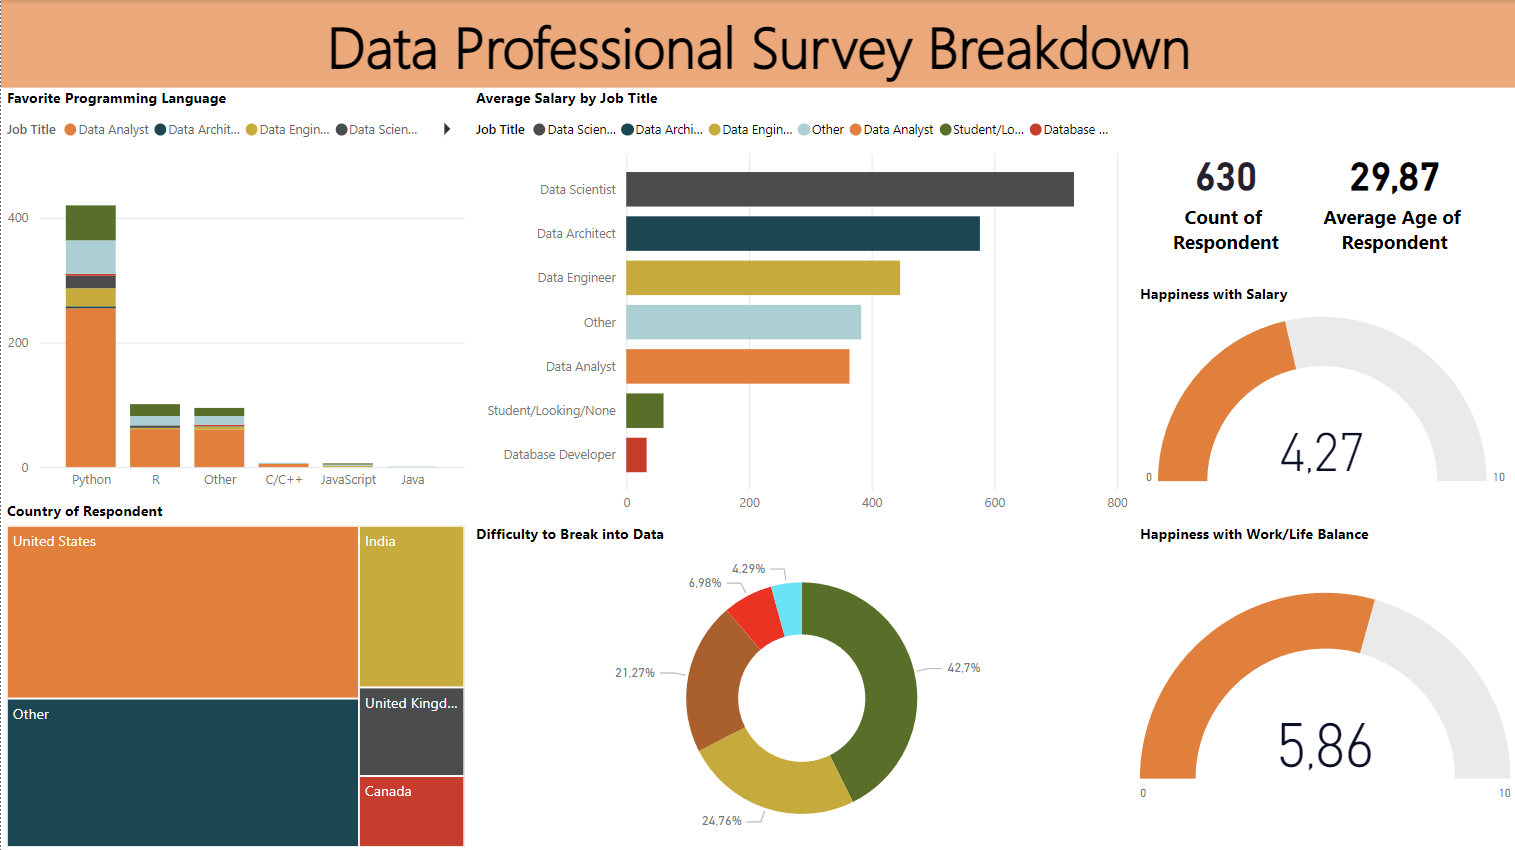

The dashboard page shown, as its layout file describes it:
{"tool":"powerbi","page":{"name":"Page 1","canvas":[1280,720],"ordinal":0},"visuals":[{"type":"textbox","box":[0,0,1280,73.9],"z":0},{"type":"card","fields":{"Values":["Count(Data Professional Survey.Unique ID)"]},"box":[956.3,74.3,155.3,165.4],"z":1000},{"type":"card","fields":{"Values":["Avg(Data Professional Survey.Q10 - Current Age)"]},"box":[1072.8,74.3,206.8,165.4],"z":2000},{"type":"barChart","title":"Average Salary by Job Title","fields":{"Category":["Data Professional Survey.Q1 - Which Title Best Fits your Current Role?.1"],"Y":["Avg(Data Professional Survey.Average Salary)"],"Series":["Data Professional Survey.Q1 - Which Title Best Fits your Current Role?.1"]},"box":[395.9,74.3,560.5,368],"z":3000},{"type":"columnChart","title":"Favorite Programming Language","fields":{"Category":["Data Professional Survey.Q5 - Favorite Programming Language.1"],"Y":["CountNonNull(Data Professional Survey.Unique ID)"],"Series":["Data Professional Survey.Q1 - Which Title Best Fits your Current Role?.1"]},"box":[0,74.3,395.9,348.6],"z":4000},{"type":"treemap","title":"Country of Respondent","fields":{"Group":["Data Professional Survey.Q11 - Which Country do you live in?.1"],"Values":["CountNonNull(Data Professional Survey.Q11 - Which Country do you live in?.1)"]},"box":[0,422.9,395.9,297.1],"z":5000},{"type":"gauge","title":"Happiness with Work/Life Balance","fields":{"Y":["Avg(Data Professional Survey.Q6 - How Happy are you in your Current Position with the following? (Coworkers))"],"MinValue":["Min(Data Professional Survey.Q6 - How Happy are you in your Current Position with the following? (Coworkers))"],"MaxValue":["Max(Data Professional Survey.Q6 - How Happy are you in your Current Position with the following? (Coworkers))1"]},"box":[956.3,442.3,323.3,277.7],"z":6000},{"type":"gauge","title":"Happiness with Salary","fields":{"Y":["Avg(Data Professional Survey.Q6 - How Happy are you in your Current Position with the following? (Salary))"],"MaxValue":["Max(Data Professional Survey.Q6 - How Happy are you in your Current Position with the following? (Salary))"],"MinValue":["Min(Data Professional Survey.Q6 - How Happy are you in your Current Position with the following? (Salary))"]},"box":[956.3,239.7,323.3,183.2],"z":7000},{"type":"donutChart","title":"Difficulty to Break into Data","fields":{"Category":["Data Professional Survey.Q7 - How difficult was it for you to break into Data?"],"Y":["CountNonNull(Data Professional Survey.Q7 - How difficult was it for you to break into Data?)"]},"box":[395.9,442.3,560.5,277.7],"z":8000}]}

Visuals, with their boxes in screenshot pixels (x1, y1, x2, y2), scaled from the page's 1280x720 canvas onto the 1515x850 screenshot:
textbox: <region>0, 0, 1514, 87</region>
card - Count(Data Professional Survey.Unique ID): <region>1132, 88, 1316, 283</region>
card - Avg(Data Professional Survey.Q10 - Current Age): <region>1270, 88, 1514, 283</region>
"Average Salary by Job Title" barChart: <region>469, 88, 1132, 522</region>
"Favorite Programming Language" columnChart: <region>0, 88, 469, 499</region>
"Country of Respondent" treemap: <region>0, 499, 469, 849</region>
"Happiness with Work/Life Balance" gauge: <region>1132, 522, 1514, 849</region>
"Happiness with Salary" gauge: <region>1132, 283, 1514, 499</region>
"Difficulty to Break into Data" donutChart: <region>469, 522, 1132, 849</region>
